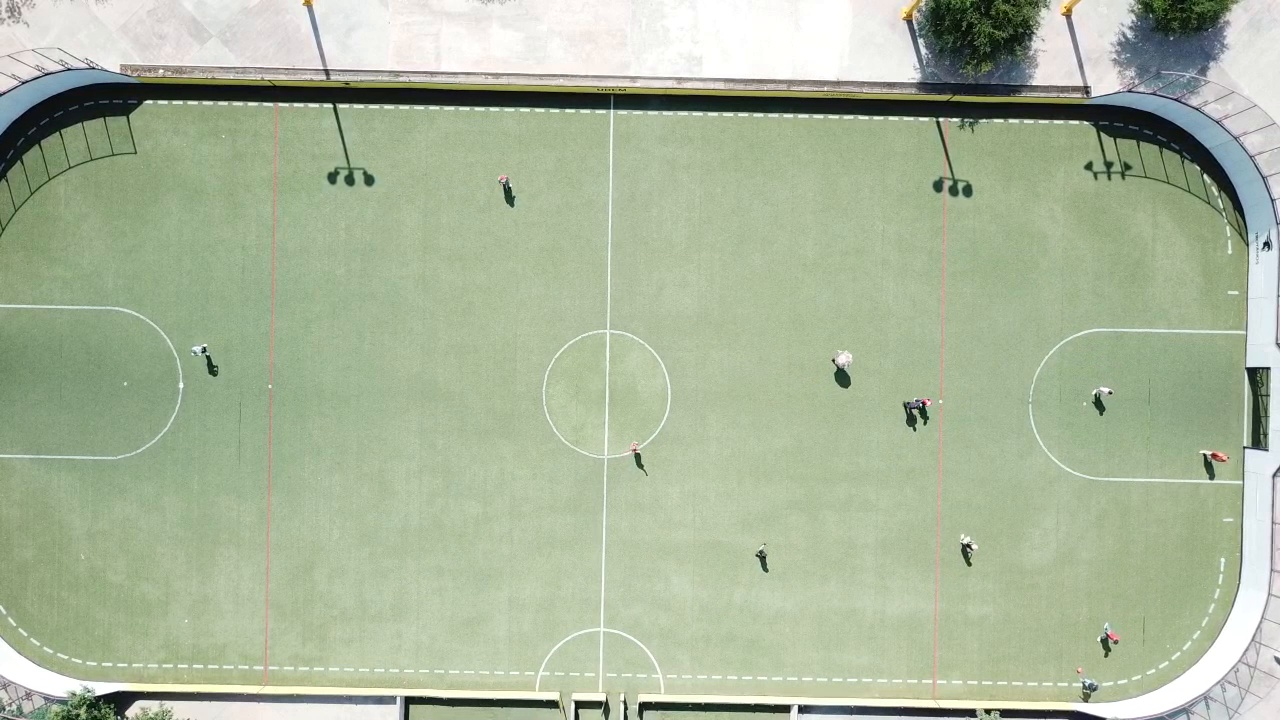ball: (1076, 667, 1082, 673)
player: (1098, 621, 1118, 645), (833, 349, 853, 372), (755, 543, 769, 571), (1200, 449, 1230, 462), (1092, 386, 1115, 402), (961, 534, 979, 553), (1080, 677, 1099, 693), (191, 344, 208, 357), (902, 400, 922, 410), (499, 174, 512, 189), (629, 441, 640, 455), (922, 397, 933, 406)
